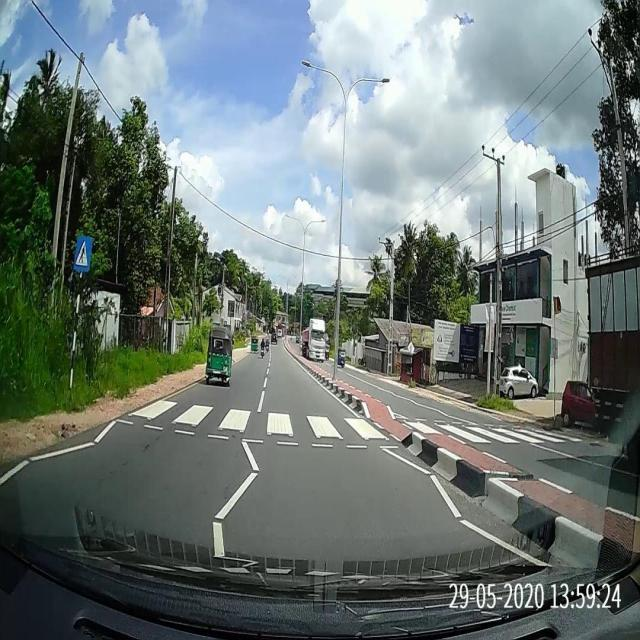Crosswalk: (104, 395, 599, 455)
